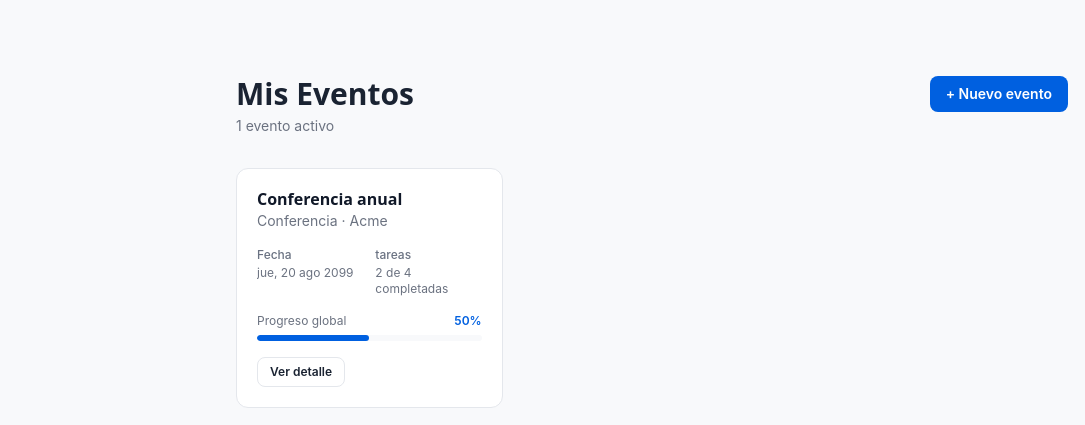
Test: EventsPage › muestra eventos y abre el detalle elegido
Expected: the heading "Conferencia anual" is shown, [257,189,402,209]
Expected: the text "2 de 4 completadas" is shown, [375,265,448,296]
Click the button with aria-label "Ver detalle de Conferencia anual" at [301, 372], box [257,357,345,387]
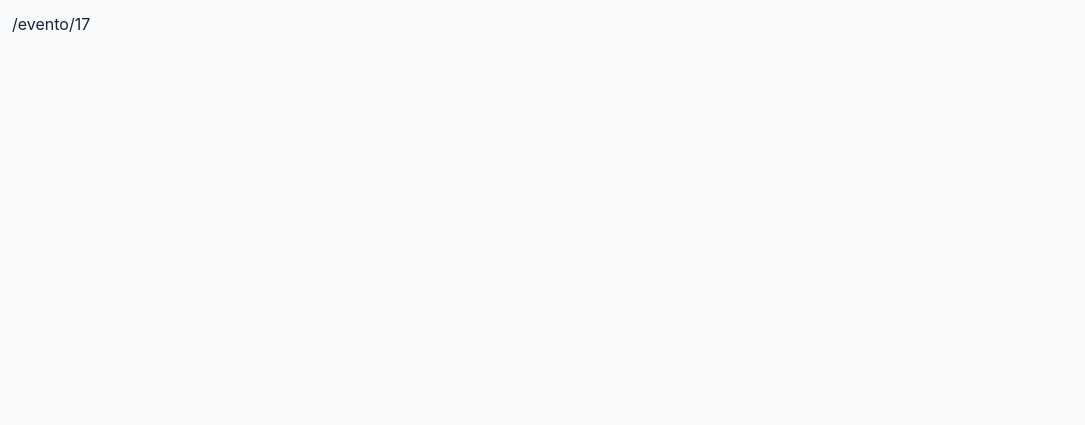
Result: the text with test id "location" reads "/evento/17" at [12,14,90,34]
